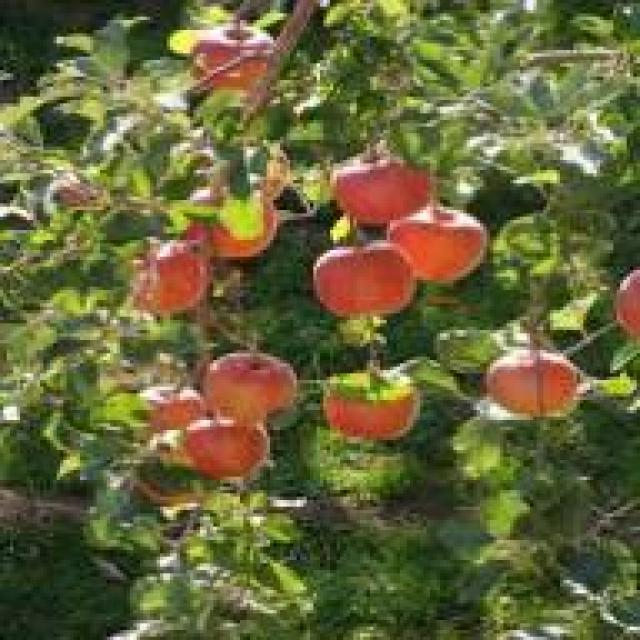apple: (383, 203, 497, 287), (327, 147, 433, 220), (313, 243, 417, 317), (113, 247, 207, 320), (316, 373, 416, 440), (180, 190, 280, 257), (490, 347, 580, 420), (203, 353, 297, 420), (180, 23, 273, 87), (176, 417, 266, 480), (127, 384, 203, 434)
